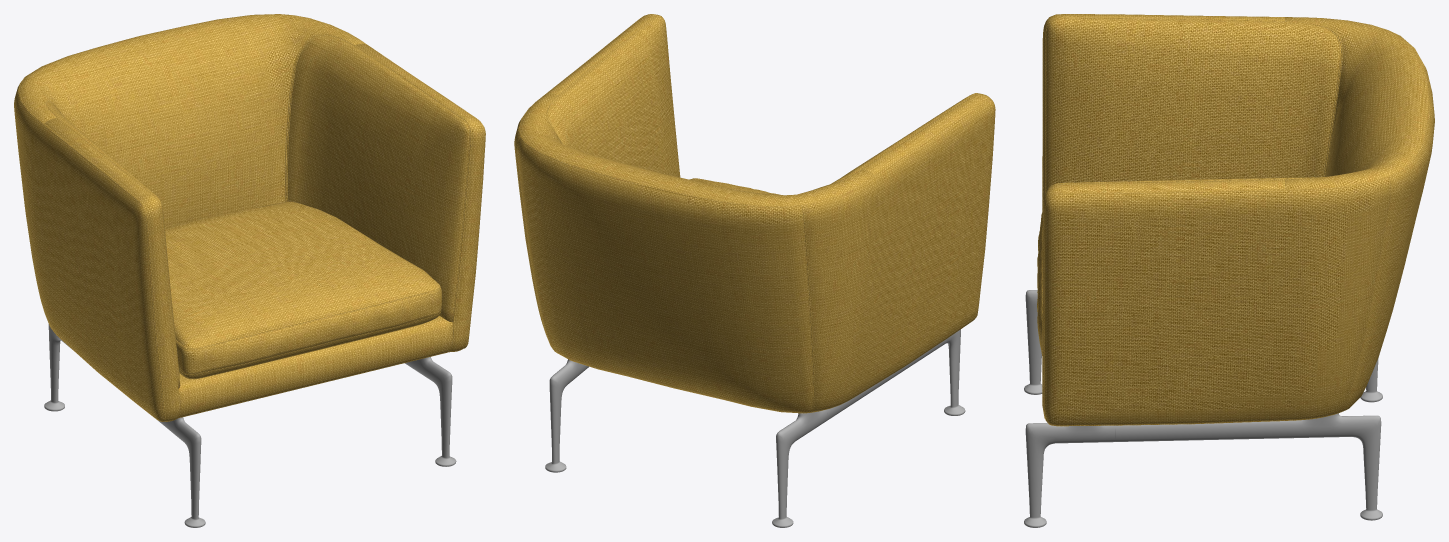
The picture shows the model from 3 angles, left to right: view 1: azimuth 30°, elevation 25°; view 2: azimuth 150°, elevation 25°; view 3: azimuth 270°, elevation 25°; orthographic projection. The views are drawn at different scales.
Visible parts, largest first — view 1: Geom3D, Geom3D_3DGeom~2_Defintion_3DGeom~2; view 2: Geom3D, Geom3D_3DGeom~2_Defintion_3DGeom~2; view 3: Geom3D, Geom3D_3DGeom~2_Defintion_3DGeom~2.
Part boxes in pixels (left/top/right/bottom): Geom3D: left=14, top=14, right=485, bottom=421; Geom3D_3DGeom~2_Defintion_3DGeom~2: left=44, top=324, right=456, bottom=527; Geom3D: left=514, top=14, right=995, bottom=413; Geom3D_3DGeom~2_Defintion_3DGeom~2: left=545, top=329, right=965, bottom=527; Geom3D: left=1037, top=14, right=1434, bottom=426; Geom3D_3DGeom~2_Defintion_3DGeom~2: left=1024, top=290, right=1382, bottom=527.
Size of the model in its own units: 0.7685 by 0.6951 by 0.7238.
Materials: 2 (1 with a texture image).
